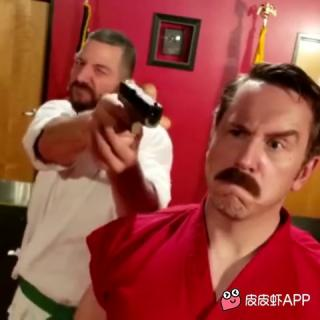gun: (111, 78, 162, 150)
